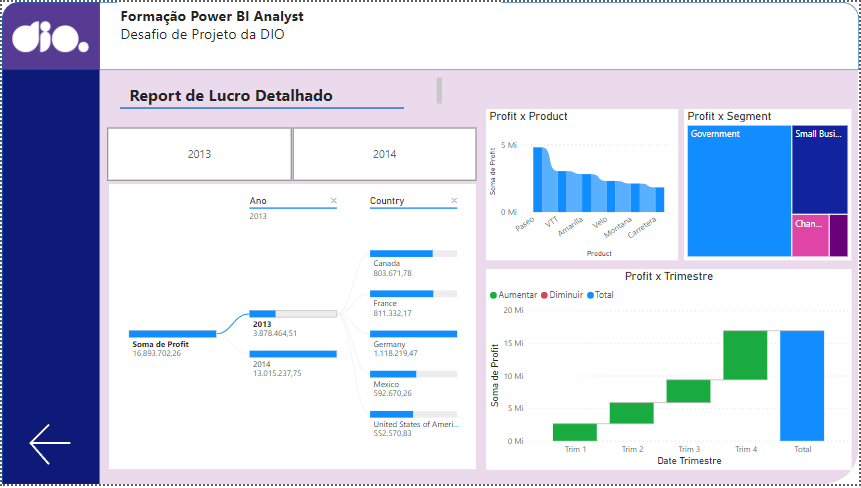

Layout of this report page (visuals, bound fields, positions):
{"tool":"powerbi","page":{"name":"Página 2","canvas":[1280,720],"ordinal":1},"visuals":[{"type":"shape","box":[0,0,146,720.8],"z":0,"group":"g1"},{"type":"shape","box":[9.3,0,1270.4,720.4],"z":0},{"type":"shape","box":[175.7,117.9,424.4,80.7],"z":0,"group":"g2"},{"type":"shape","box":[0,0,146,101],"z":1000,"group":"g1"},{"type":"shape","box":[144.4,0,1135.2,101.9],"z":1000},{"type":"textbox","box":[176.1,107,486.2,51],"z":1000,"group":"g2"},{"type":"textbox","box":[172,0,574.3,76.2],"z":2000},{"type":"image","title":"logo_dio","box":[10.9,15.5,124.3,73],"z":2000,"group":"g1"},{"type":"group","id":"g1","title":"design 1","box":[0,0,145.3,720.6],"z":3000},{"type":"group","id":"g2","title":"design 2","box":[175.7,107,486.6,91.6],"z":4000},{"type":"decompositionTreeVisual","fields":{"Analyze":["Sum(financials.Profit)"],"ExplainBy":["financials.Date.Variation.Hierarquia de datas.Ano","financials.Country"]},"box":[159.3,272.2,548.1,425.9],"z":5000},{"type":"treemap","title":"Profit x Segment","fields":{"Values":["Sum(financials.Profit)"],"Group":["financials.Segment"]},"box":[1018.5,159.3,250,225.9],"z":6000},{"type":"waterfallChart","title":"Profit x Trimestre","fields":{"Y":["Sum(financials.Profit)"],"Category":["financials.Date.Variation.Hierarquia de datas.Trimestre"]},"box":[722.2,398.1,546.3,300],"z":7000},{"type":"slicer","fields":{"Values":["financials.Date.Variation.Hierarquia de datas.Ano"]},"box":[131.4,180,601.4,92.9],"z":8000},{"type":"ribbonChart","title":" Profit x Product","fields":{"Category":["financials.Product"],"Y":["Sum(financials.Profit)"]},"box":[722.2,159.3,287,225.9],"z":9000},{"type":"actionButton","box":[22.2,622.2,100,75.9],"z":10000}]}

Visuals, with their boxes in screenshot pixels (x1, y1, x2, y2):
shape: bbox=(0, 0, 97, 478)
shape: bbox=(6, 0, 849, 478)
shape: bbox=(117, 78, 398, 132)
shape: bbox=(0, 0, 97, 67)
shape: bbox=(96, 0, 849, 68)
textbox: bbox=(117, 71, 439, 105)
textbox: bbox=(114, 0, 495, 51)
"logo_dio" image: bbox=(7, 10, 90, 59)
"design 1" group: bbox=(0, 0, 96, 478)
"design 2" group: bbox=(117, 71, 439, 132)
decompositionTreeVisual - Sum(financials.Profit) x financials.Date.Variation.Hierarquia de datas.Ano: bbox=(106, 181, 469, 463)
"Profit x Segment" treemap: bbox=(676, 106, 841, 256)
"Profit x Trimestre" waterfallChart: bbox=(479, 264, 841, 463)
slicer - financials.Date.Variation.Hierarquia de datas.Ano: bbox=(87, 119, 486, 181)
" Profit x Product" ribbonChart: bbox=(479, 106, 669, 256)
actionButton: bbox=(15, 413, 81, 463)
